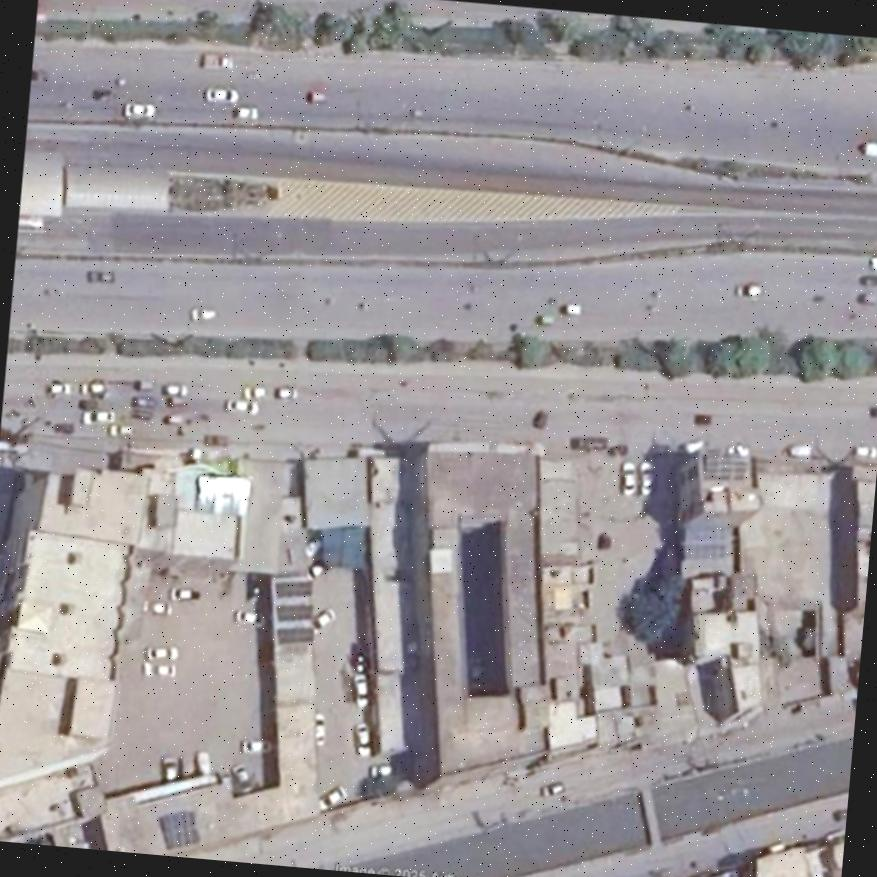Solarpanel: (196, 474, 250, 514), (158, 811, 199, 846), (703, 450, 746, 478), (277, 627, 312, 642), (275, 603, 311, 615), (274, 582, 309, 593)
